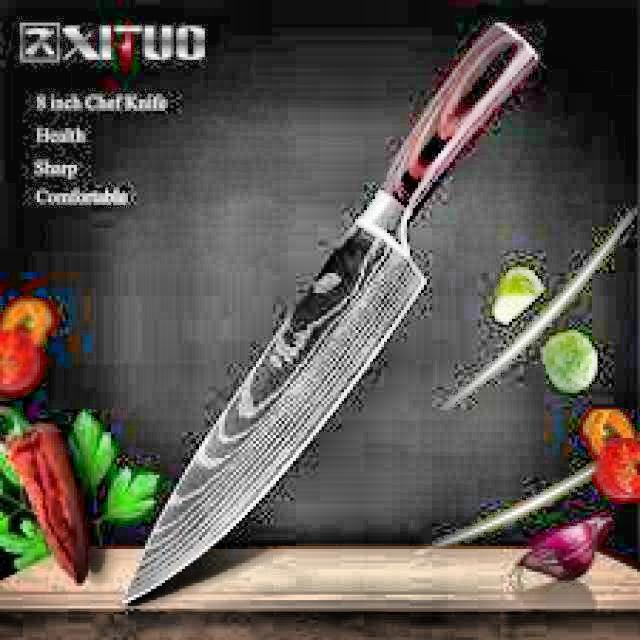knife: (122, 32, 538, 599)
